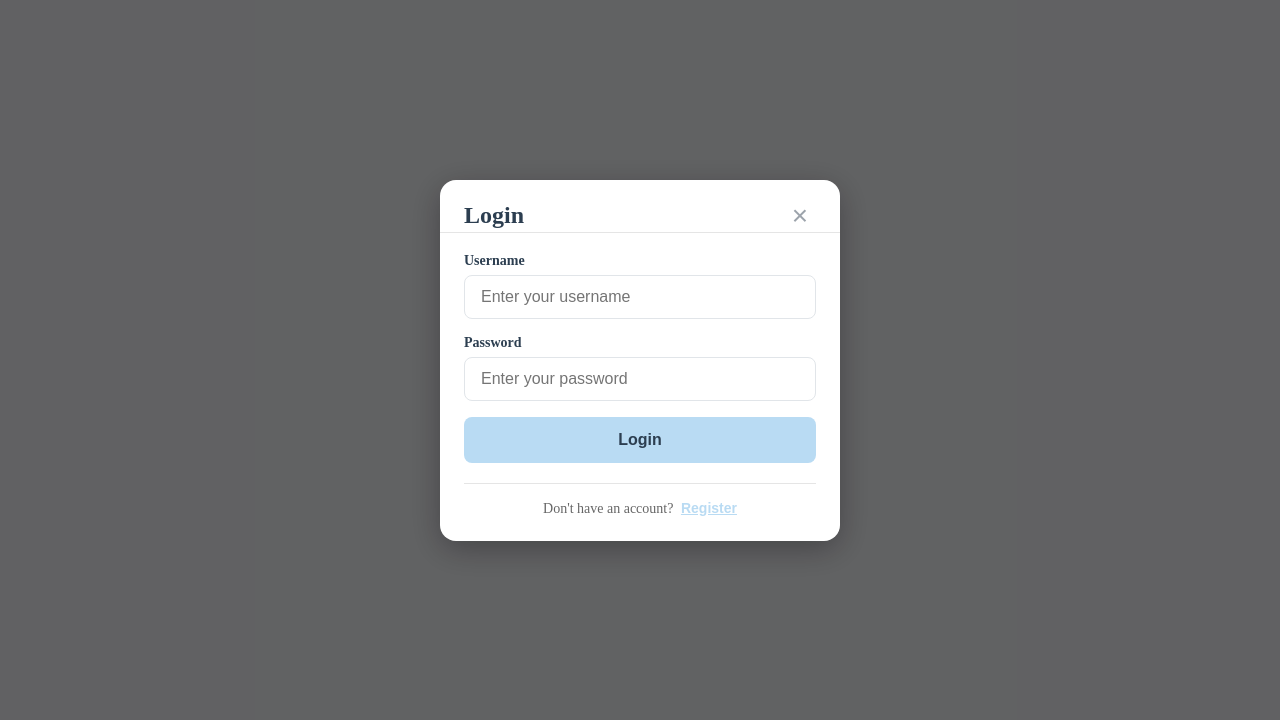
Test: LoginModal.svelte › toggles to registration mode when switch button clicked
# Click the “Register” switch button
Step 1. Click the button "Register" → (709, 508), box x1=681 y1=500 x2=737 y2=516
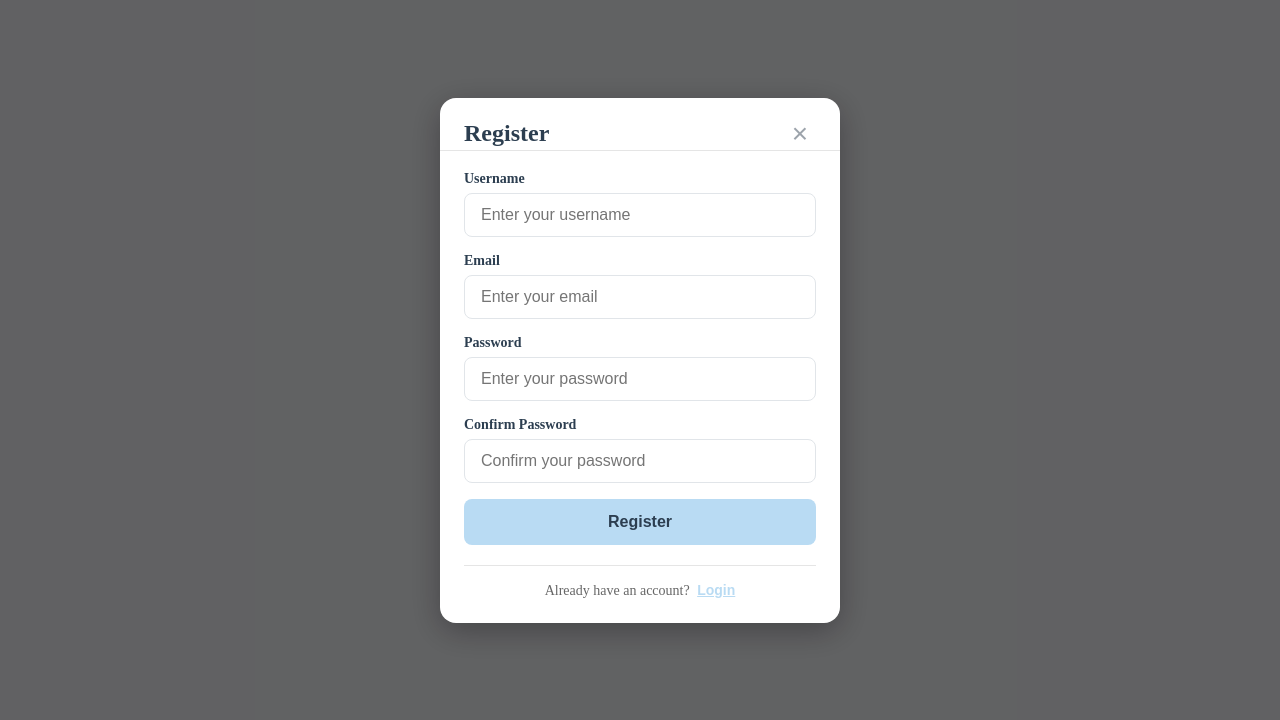
expect the heading "Register" is shown: met, box x1=464 y1=120 x2=549 y2=147
expect the field labelled "Email" is shown: met, box x1=464 y1=274 x2=816 y2=318
expect the password field labelled "Confirm Password" is shown: met, box x1=464 y1=438 x2=816 y2=482
